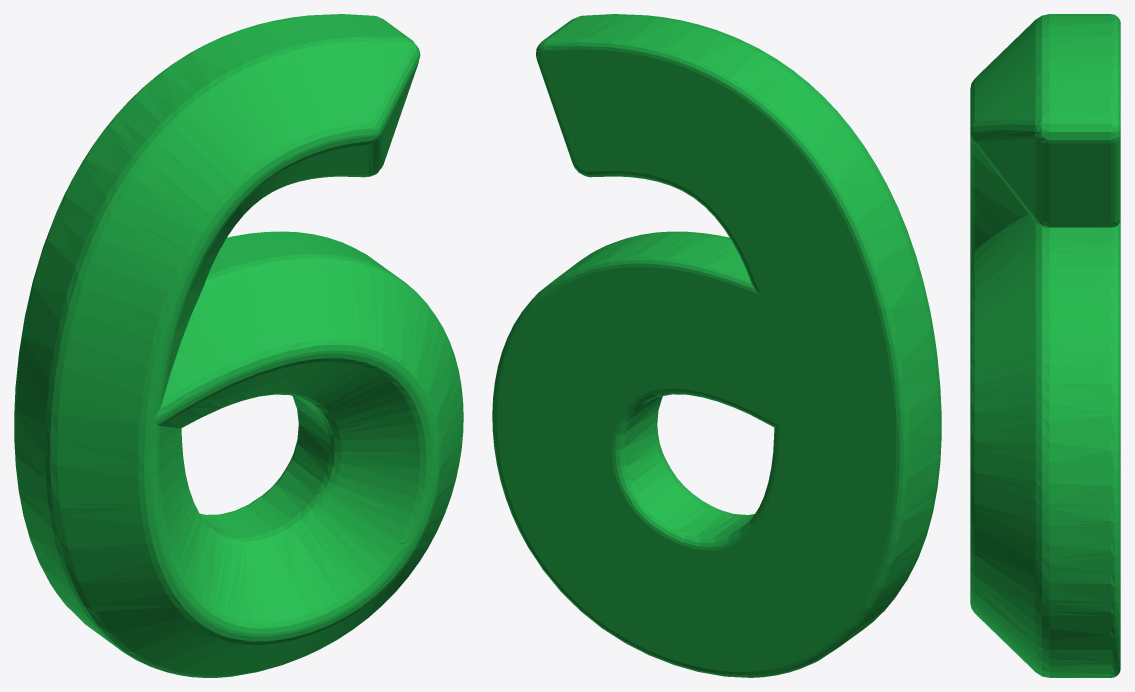
File: six.obj
3 views of the same model, side by side, from view 1: azimuth 30°, elevation 25°; view 2: azimuth 150°, elevation 25°; view 3: azimuth 270°, elevation 25° (orthographic). The views are drawn at different scales.
Parts seen in each view (by area): view 1: Object.1; view 2: Object.1; view 3: Object.1.
Part boxes in pixels (x1,y1,x2,y2): Object.1: [14, 14, 463, 677]; Object.1: [492, 14, 941, 677]; Object.1: [970, 14, 1120, 677].
Bounding box in the file's own units: 17.41 × 24.59 × 5.32.
